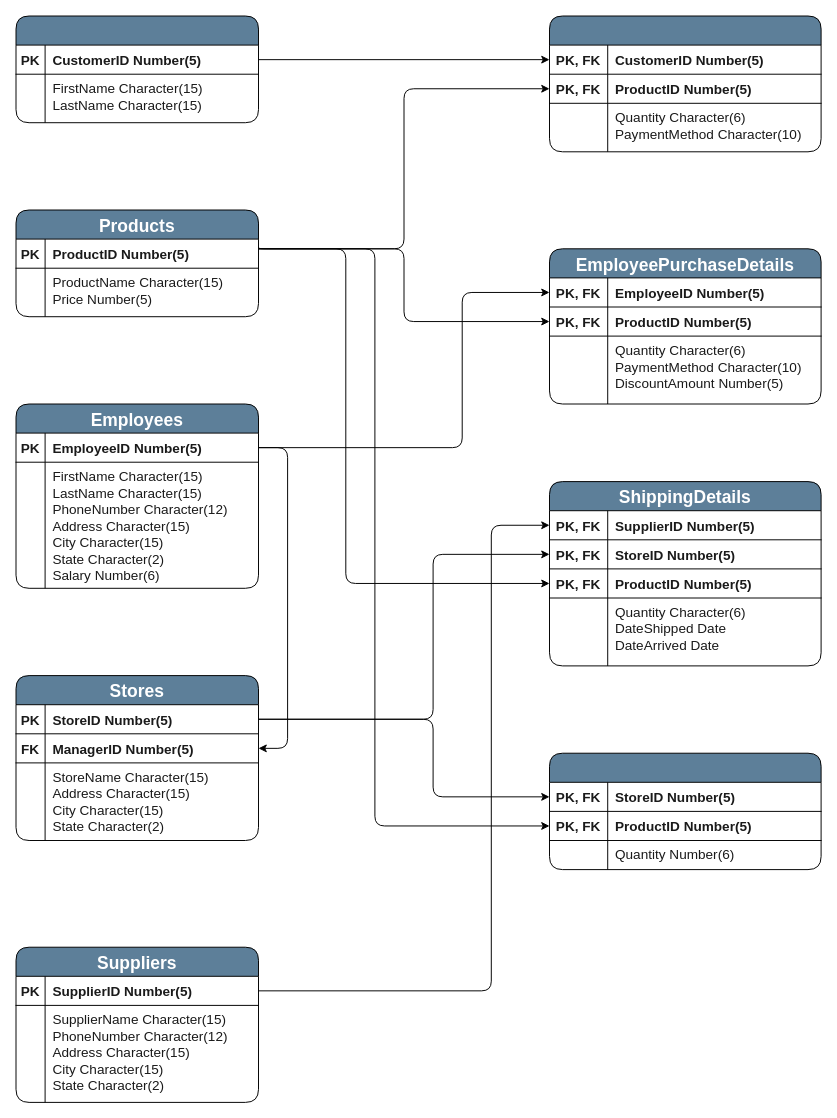
The diagram is 837 pixels wide and 1118 high, and some of its shapes have lost their labels. The box of each missing label's shape, as (x1, y1, x2, y2) in pixels:
CustomerPurchaseDetails: (549, 15, 821, 152)
Customers: (15, 15, 259, 123)
InventoryDetails: (549, 752, 821, 870)
